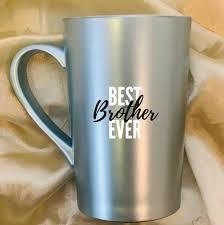Mug: (5, 10, 220, 225)
